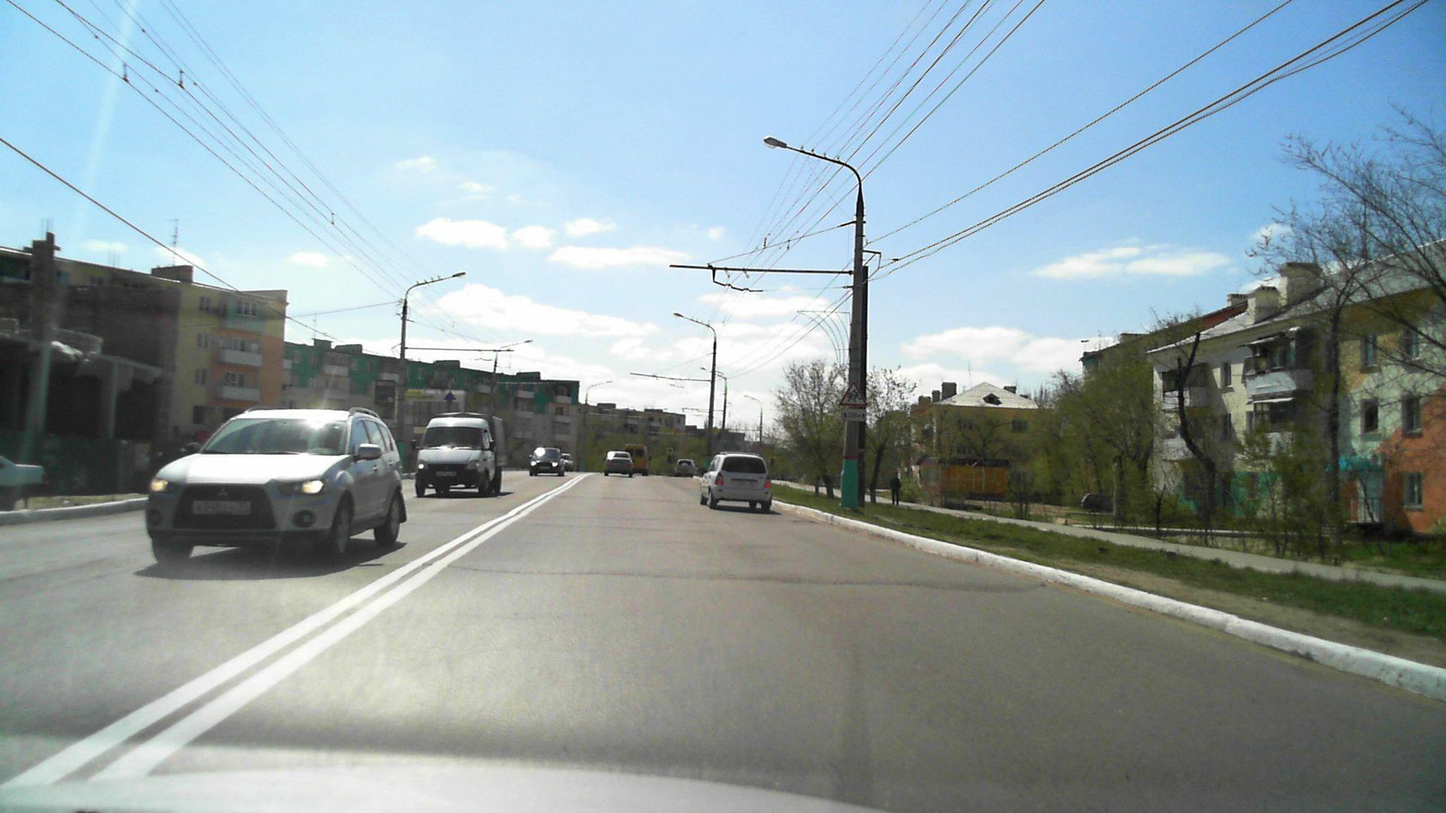road_sign: (837, 380, 870, 407)
